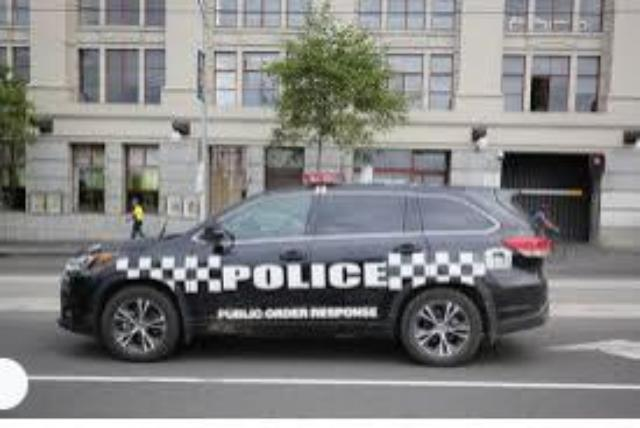police_car: (57, 170, 553, 368)
